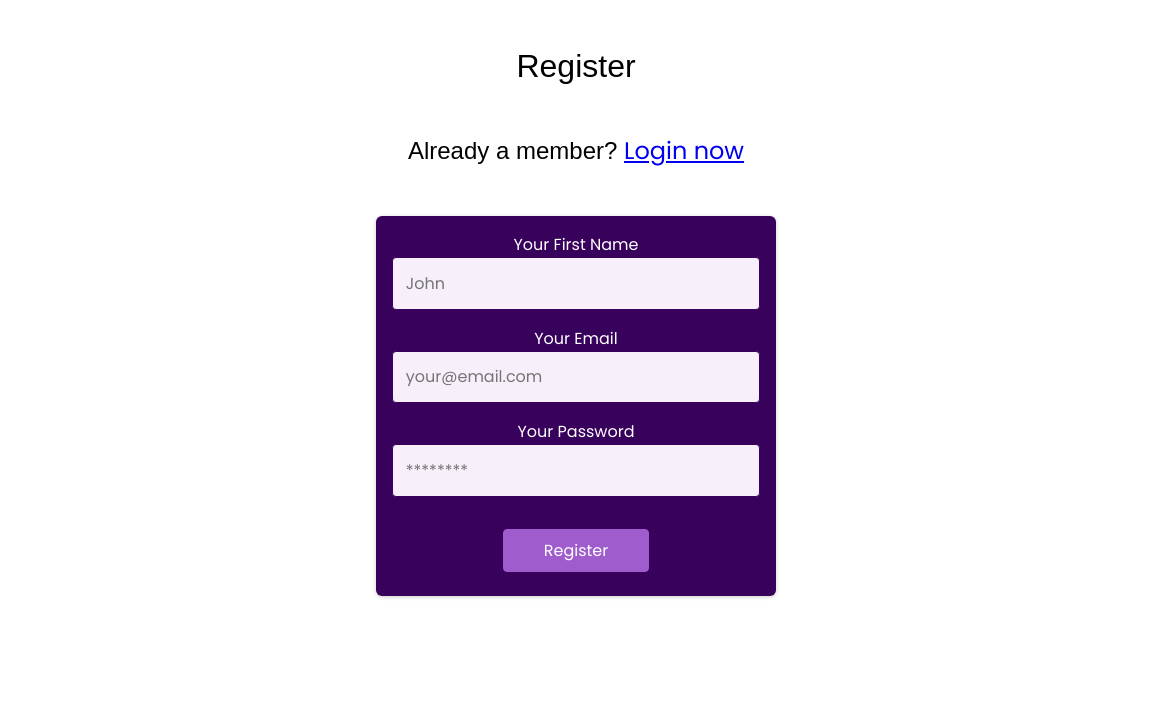
Scenario: Behaviour of error modal › Error modal pops up if incorrect email format is entered.
Step 1. Type "tomEmail.com" into the field with placeholder "your@email.com" → coordinates (576, 377), box top-left (392, 351), bottom-right (760, 403)
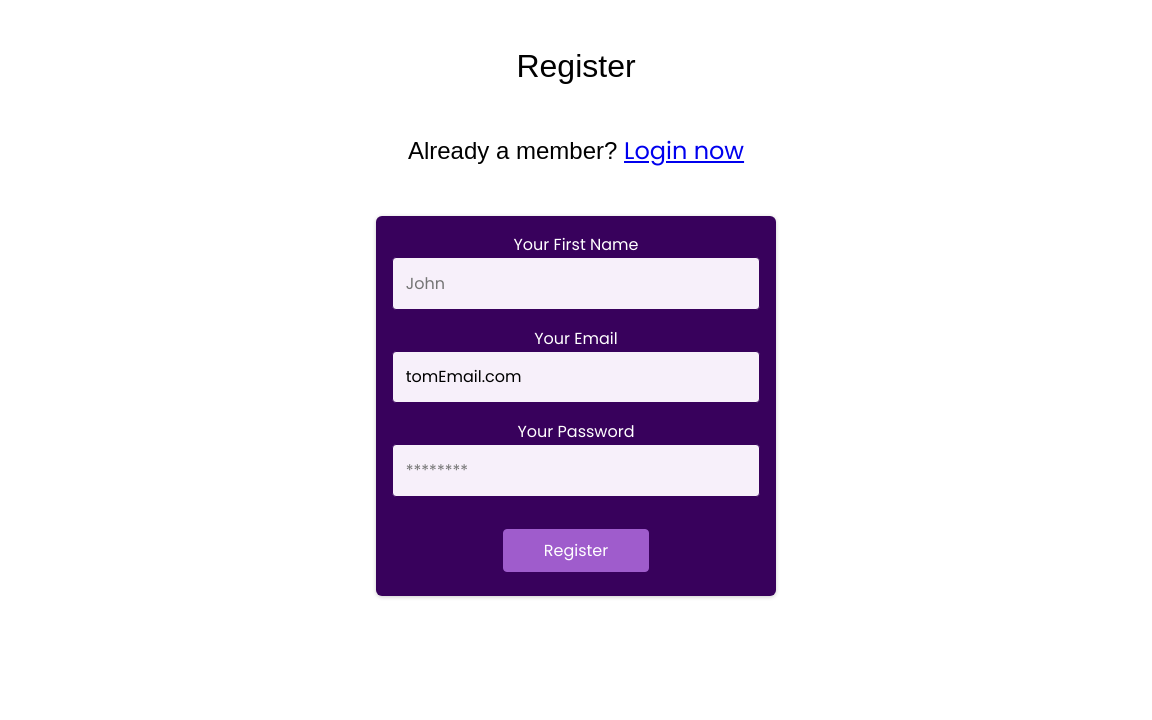
Step 2. Click the button with test id "registerBtn" → coordinates (576, 550), box top-left (503, 529), bottom-right (649, 572)
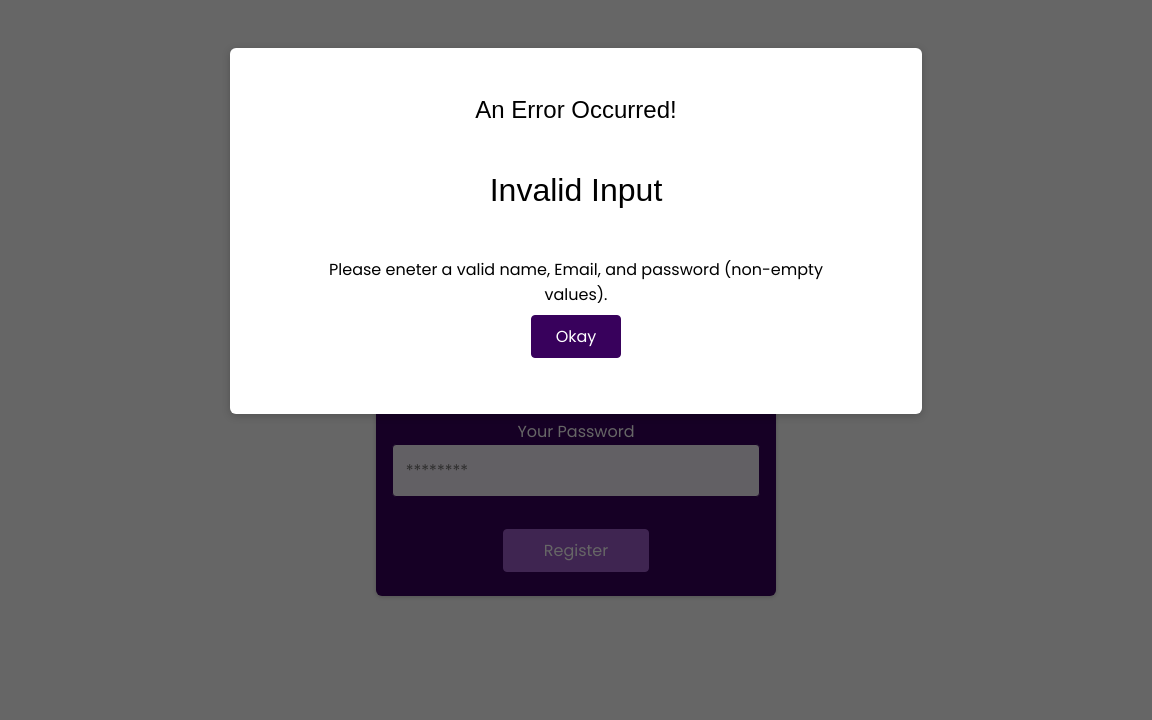
Expected: the heading "An Error Occurred!" is shown, top-left (475, 96), bottom-right (677, 123)
